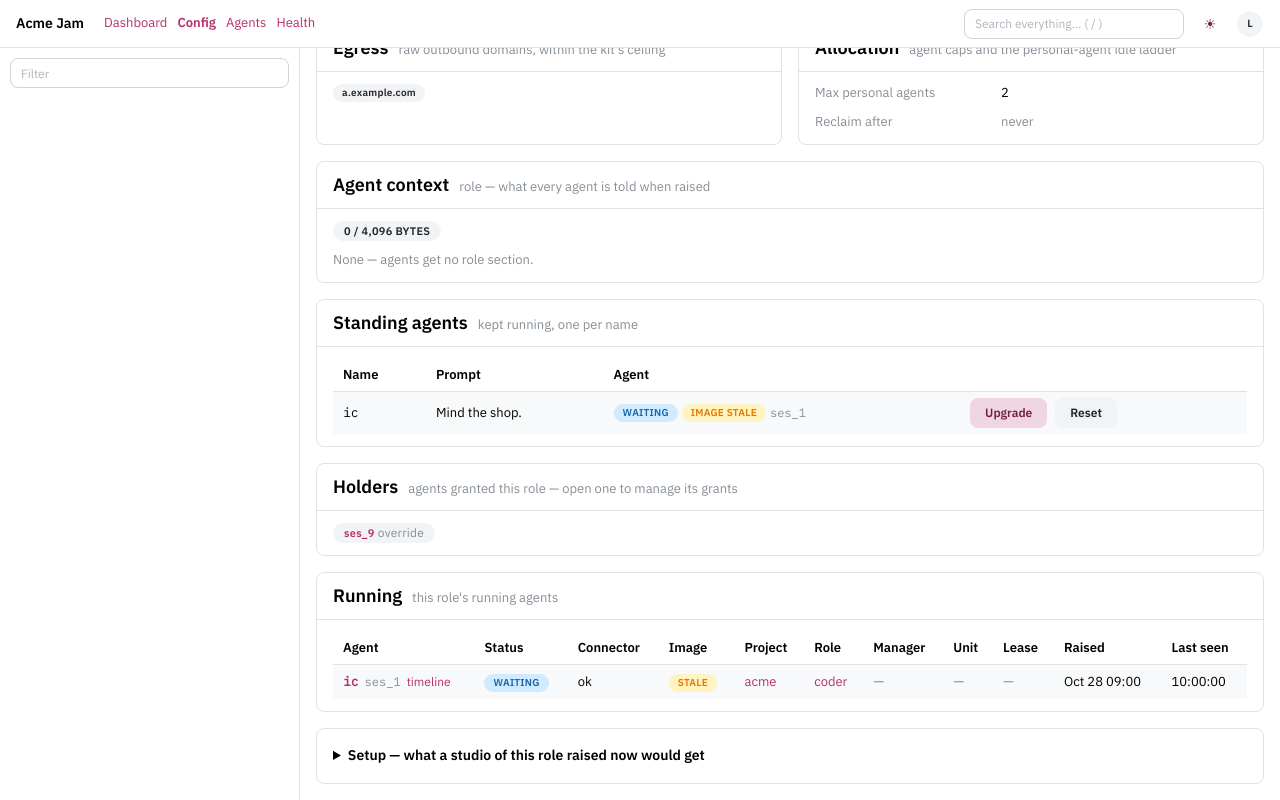
Test: a role's Setup › says why it can't load
The width and height of the screenshot is (1280, 800).
(page scrolled)
Click the heading "Setup — what a studio of this role raised now would get" at (526, 755), box x1=348 y1=746 x2=705 y2=764
(page scrolled)
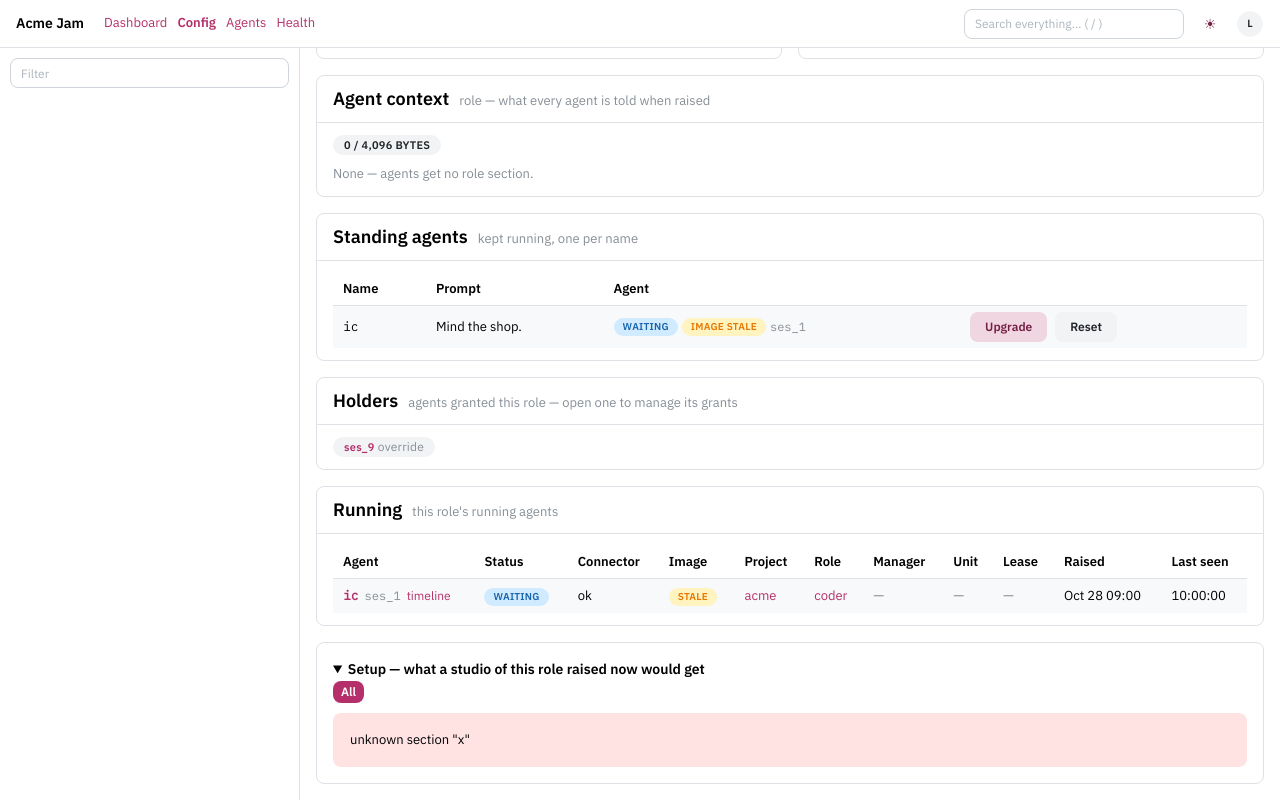
Expected: the text "unknown section \"x\"" is shown, x1=350 y1=731 x2=470 y2=748
